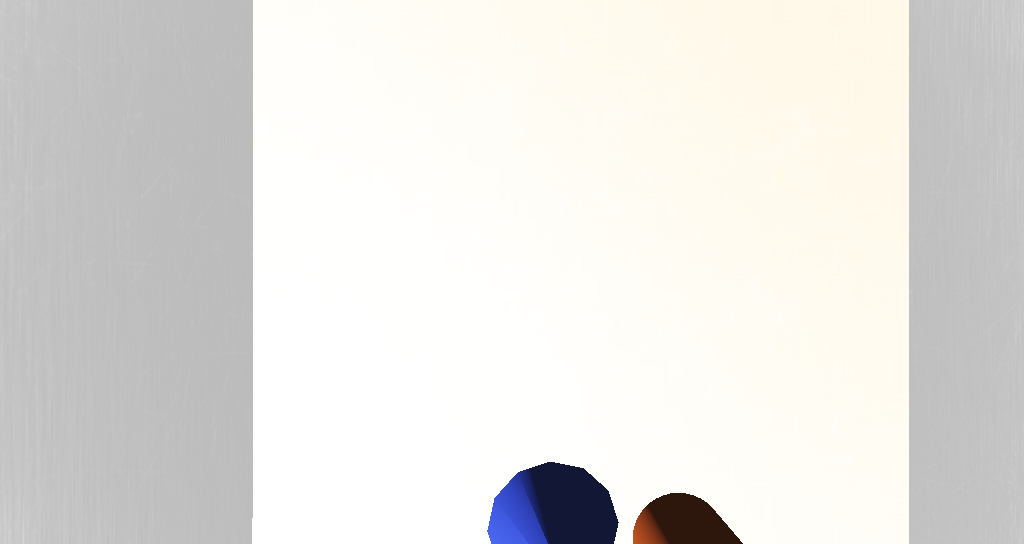cone: (536, 341, 583, 384)
cylinder: (458, 332, 525, 384)
sphere: (216, 255, 296, 317)
